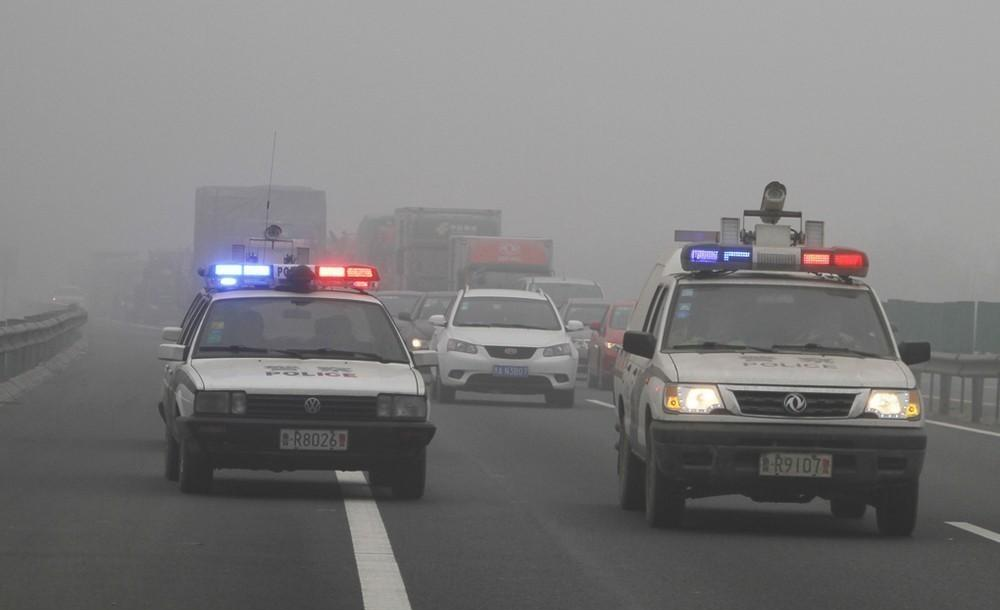bus: (191, 178, 330, 305), (389, 201, 506, 304), (448, 231, 556, 318)
car: (609, 222, 933, 543), (152, 240, 436, 500), (426, 277, 588, 410), (585, 298, 681, 392), (397, 286, 481, 376), (522, 273, 609, 359), (552, 295, 625, 374)
